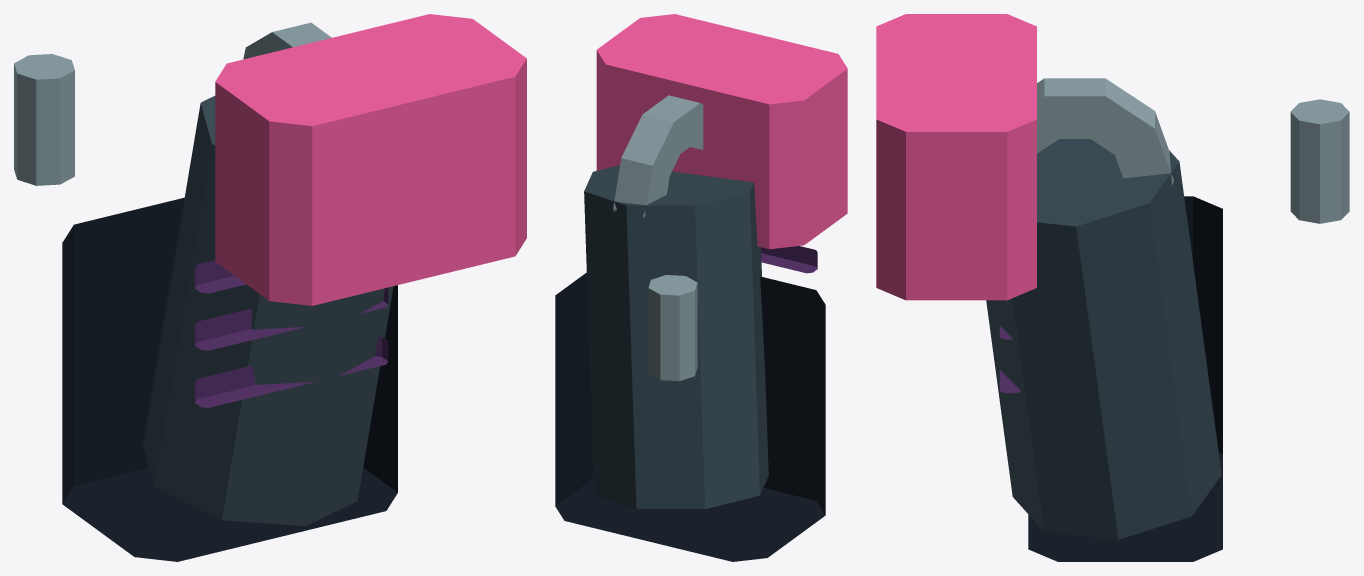
File: enemy_striker_shin_r.obj
3 renders of one model, left to right at view 1: azimuth 30°, elevation 25°; view 2: azimuth 150°, elevation 25°; view 3: azimuth 270°, elevation 25°, orthographic. The views are drawn at different scales.
Size of the model in its own units: 0.3988 by 0.59 by 0.56.
